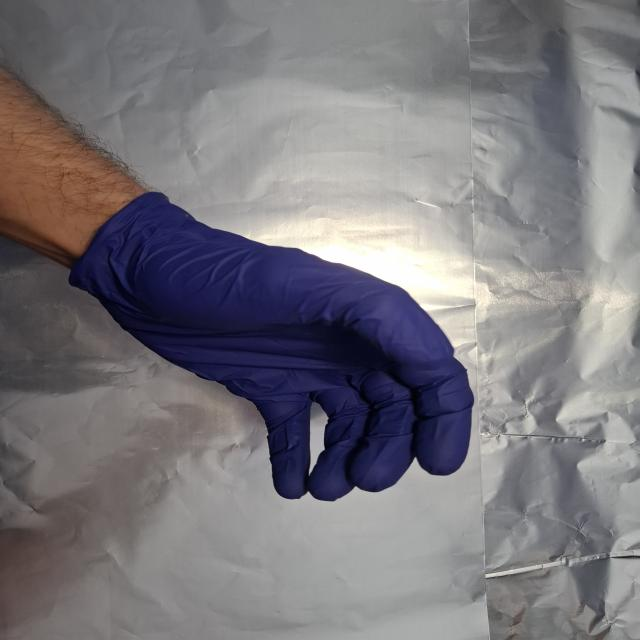glove_on: (71, 192, 478, 505)
